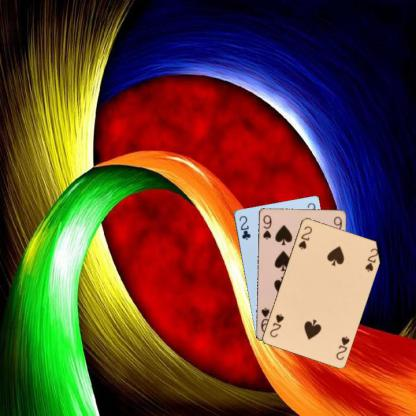2c: (236, 213, 252, 241)
2s: (295, 223, 313, 251), (333, 333, 351, 361)
9s: (260, 213, 272, 240)
